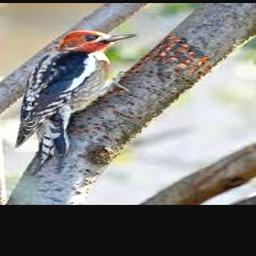Woodpecker: (15, 30, 138, 175)
